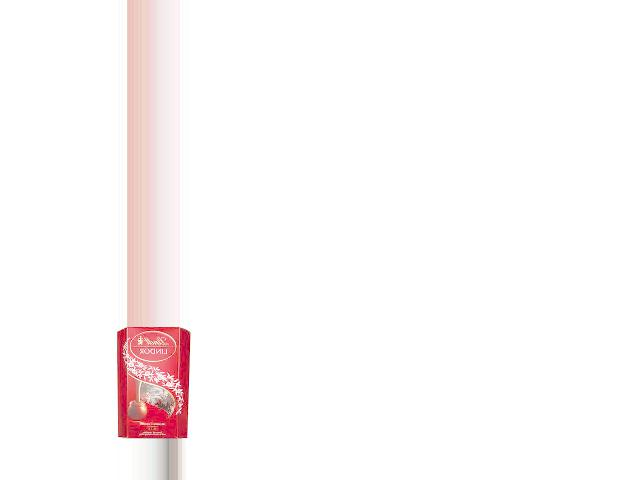chocolate: (111, 327, 192, 439)
